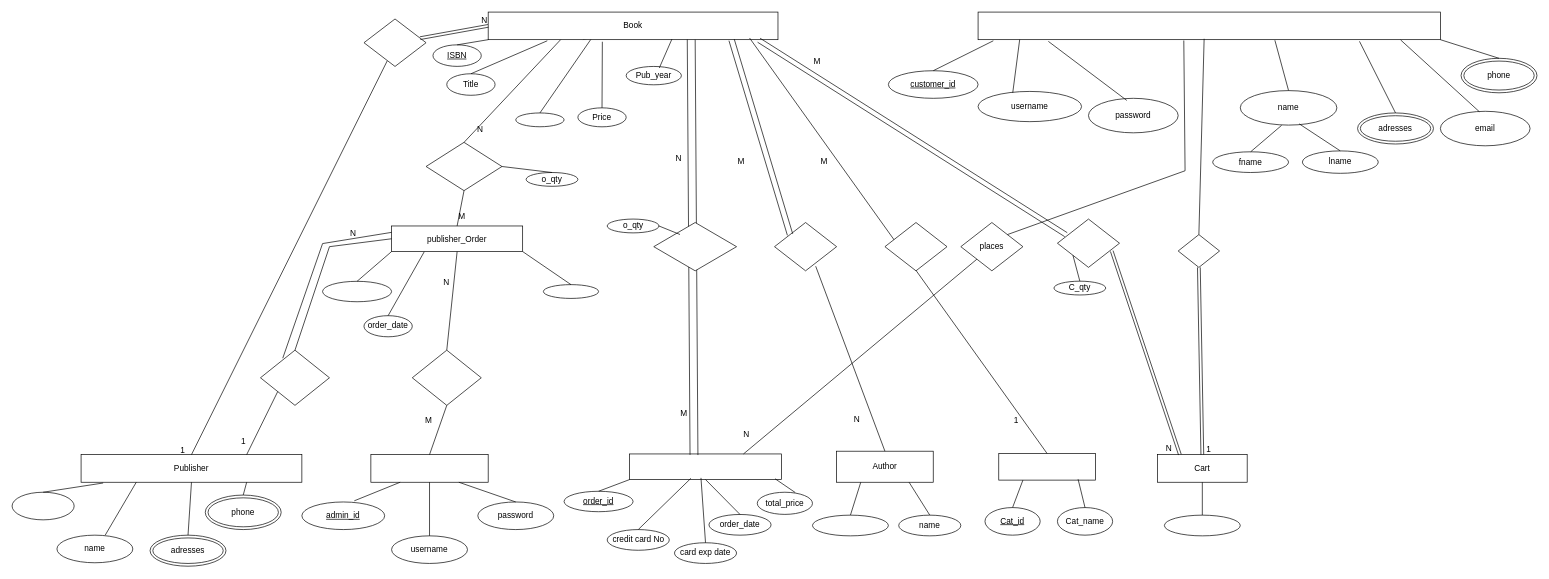
Some shapes in this 1549 by 579 pixel diagram are drawn without their labels. Each missing label, with the box of its shape:
Admin: (370, 454, 488, 482)
author_id: (812, 514, 888, 536)
Authored BY: (774, 222, 837, 271)
C_order_contains: (653, 222, 737, 271)
cart_id: (1164, 514, 1240, 536)
cart_item: (1057, 218, 1120, 267)
Category: (998, 453, 1095, 480)
Customer: (977, 11, 1440, 40)
Customer_Order: (629, 453, 781, 480)
Has: (884, 222, 947, 271)
Make or Confirm: (412, 349, 481, 405)
owns a: (1177, 234, 1220, 267)
P_order_Contains: (425, 142, 502, 191)
P_order_id: (322, 281, 392, 302)
published by: (363, 18, 426, 66)
Publisher_id: (11, 492, 74, 520)
Receives: (260, 349, 329, 405)
status: (543, 284, 599, 298)
stock_qty: (515, 112, 564, 127)
